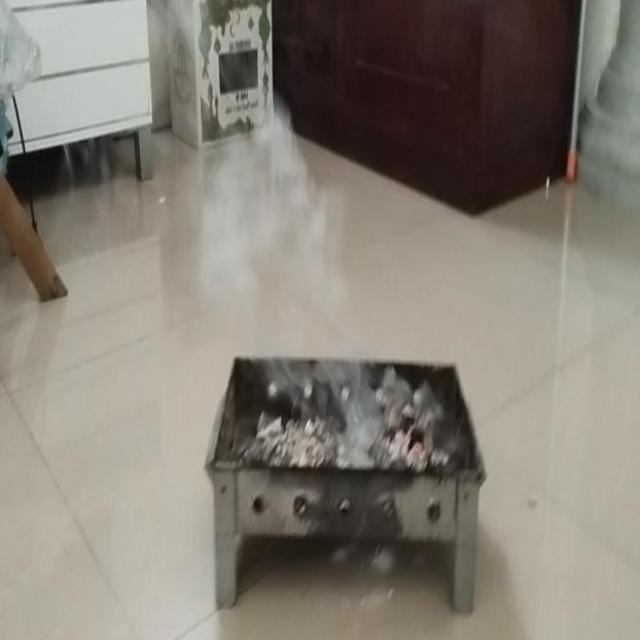fire: (190, 103, 344, 395)
